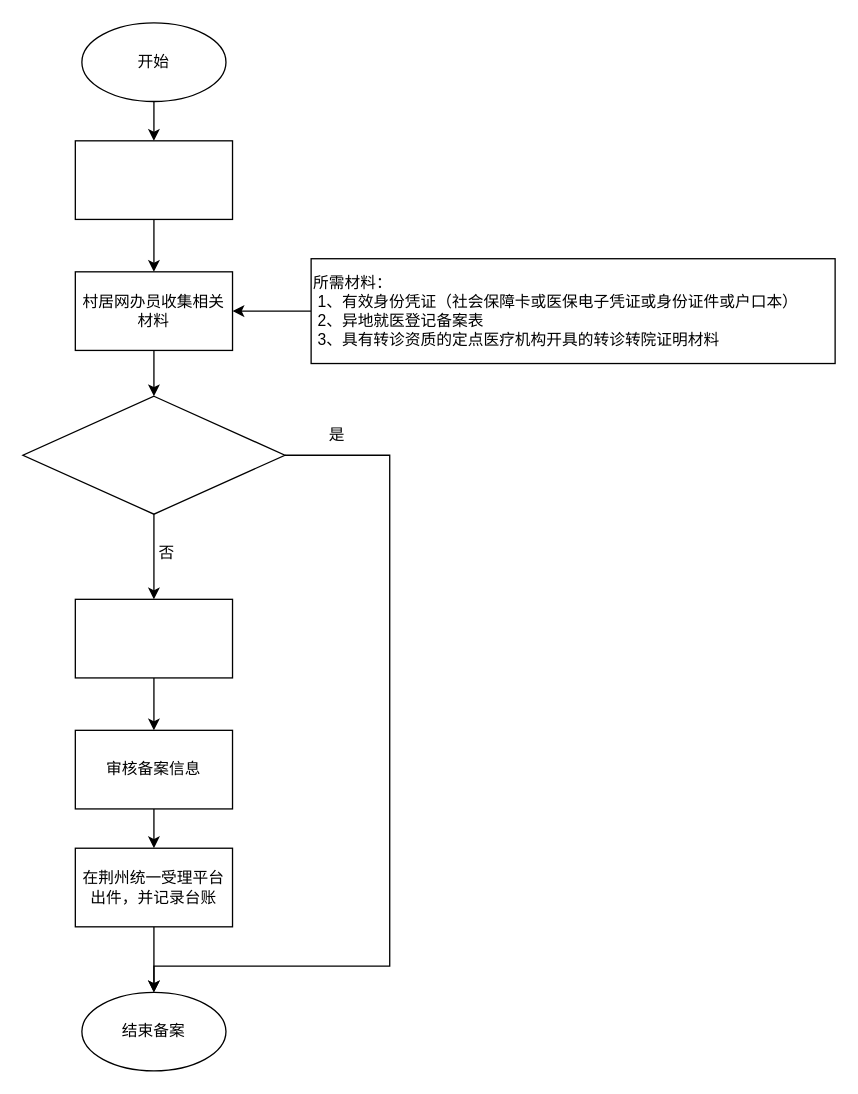
The diagram is 858 pixels wide and 1094 high, and some of its shapes have lost their labels. The centre of each missing label's shape, as x and y in pixels:
"乡镇医保窗口确认 是否已存在 有效备案信息" belongs at (x=153, y=454).
"在荆州统一受理平台转诊备案" belongs at (x=153, y=638).
"异地就医备案" belongs at (x=153, y=179).
